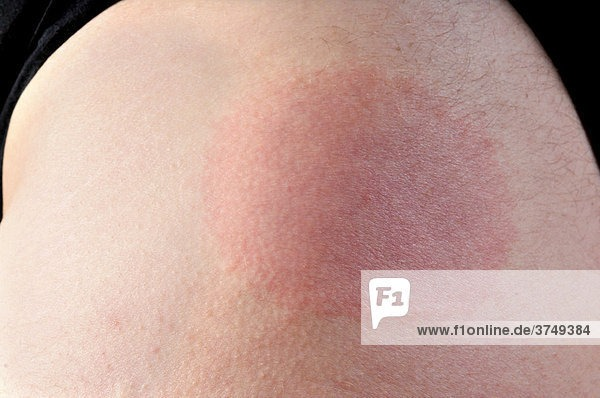Ringworm: (196, 61, 543, 340)
